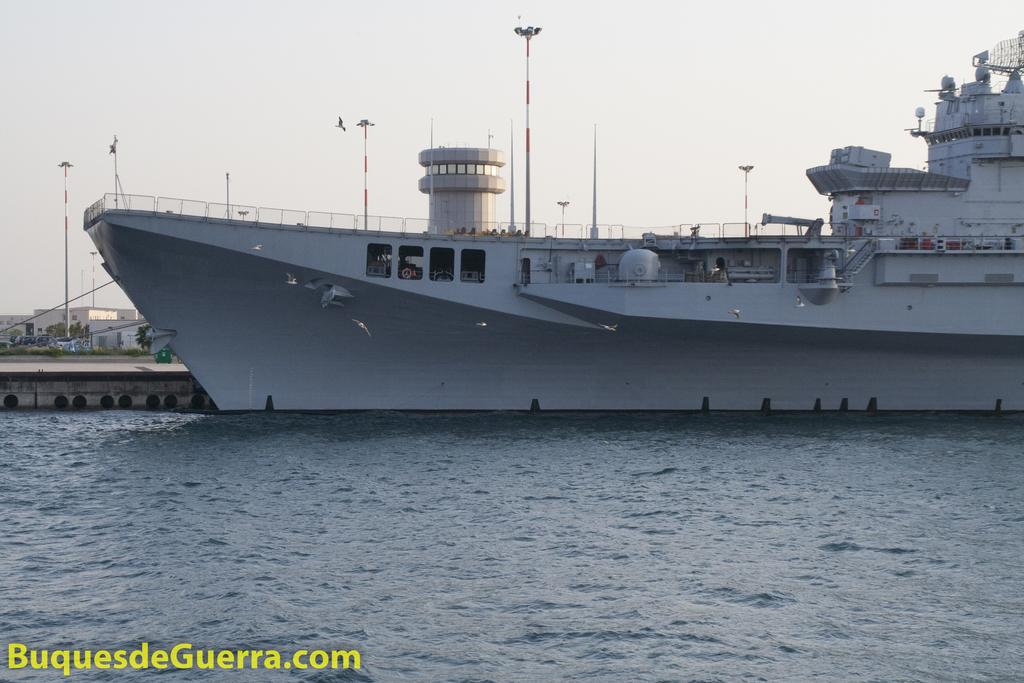Warship: (74, 34, 1024, 432)
